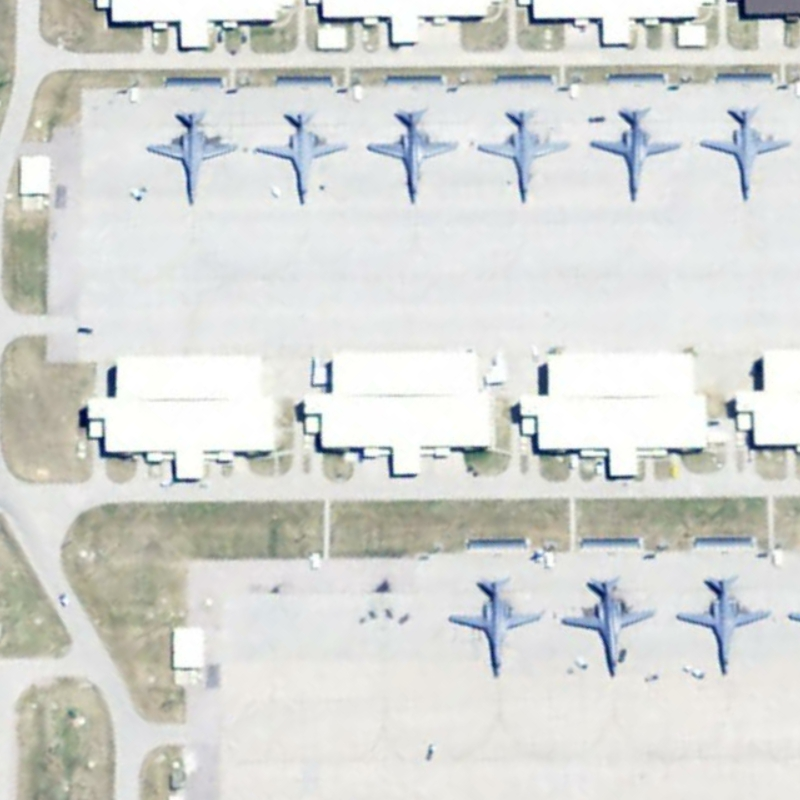A10: (668, 562, 780, 679), (445, 568, 554, 681), (556, 569, 662, 683), (585, 103, 690, 205), (476, 101, 577, 206), (696, 100, 793, 209), (365, 105, 464, 208), (252, 109, 351, 210), (147, 107, 243, 208)
